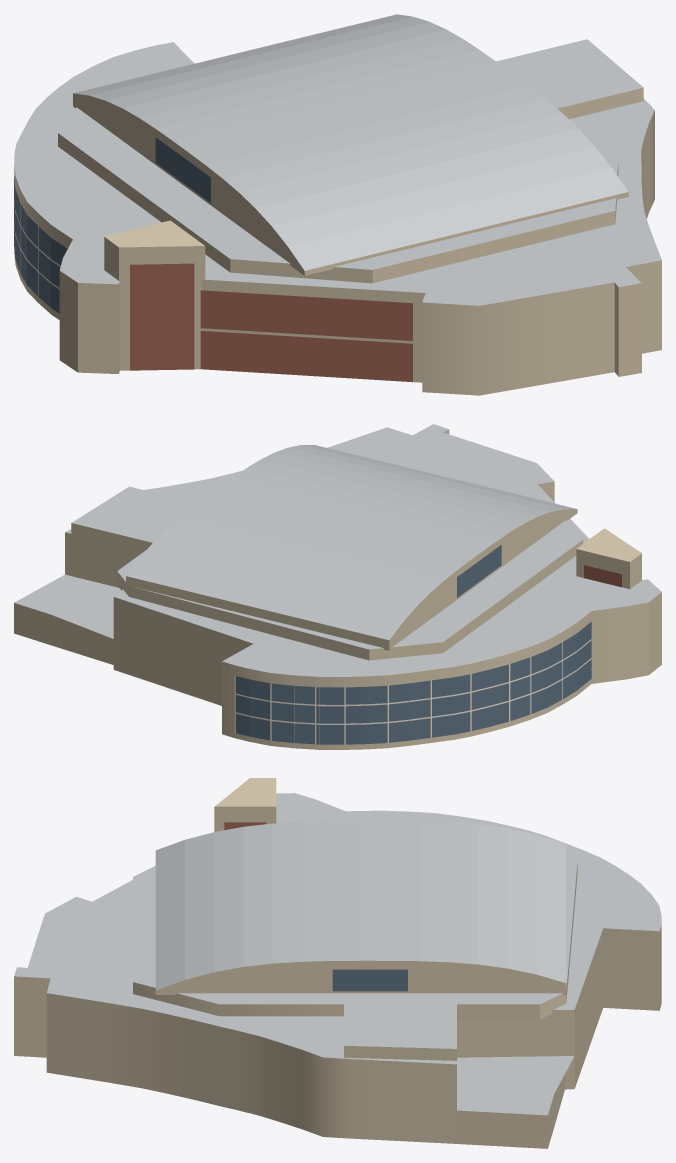
The model's file is msp-grand-casino-arena.glb.
3 renders of one model, top to bottom at view 1: azimuth 30°, elevation 25°; view 2: azimuth 150°, elevation 25°; view 3: azimuth 270°, elevation 25°, orthographic. The views are drawn at different scales.
Visible parts, largest first — view 1: Grand Casino Arena; view 2: Grand Casino Arena; view 3: Grand Casino Arena.
Part boxes in pixels (x1=…): Grand Casino Arena: x1=14, y1=14, x2=661, y2=395; Grand Casino Arena: x1=14, y1=424, x2=661, y2=749; Grand Casino Arena: x1=14, y1=778, x2=661, y2=1148.
Bounding box in the file's own units: 174 × 36.3 × 172.
